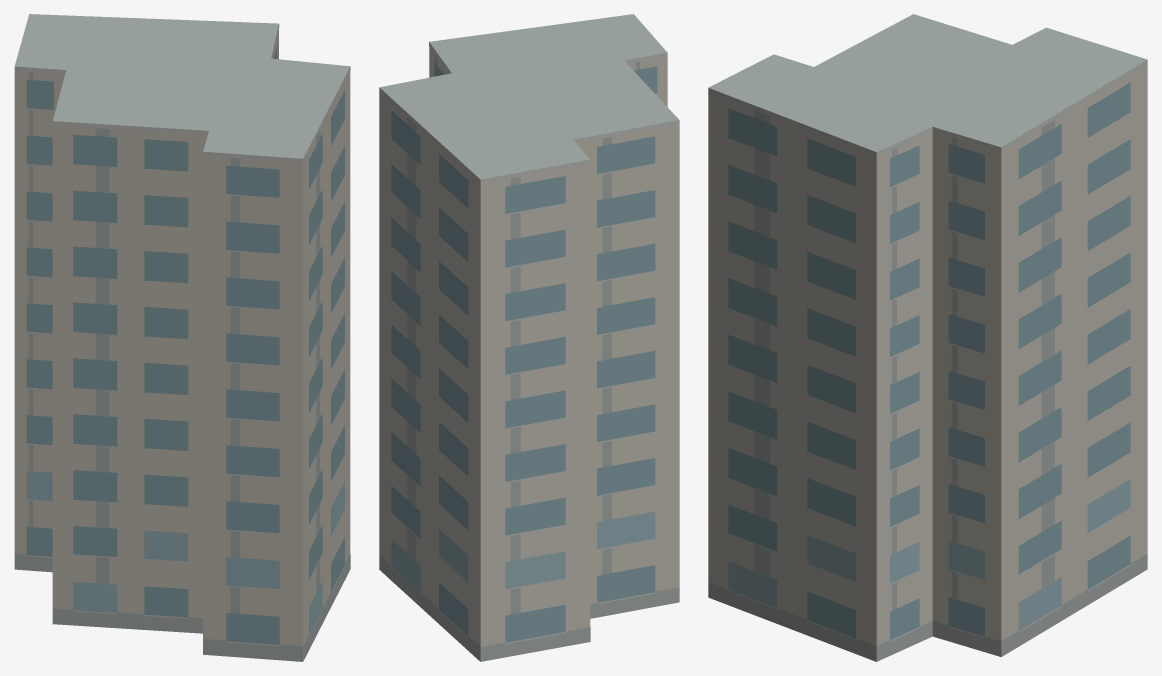
Rendered from survey-upis-33002314.glb.
3 views of the same model, side by side, from view 1: azimuth 30°, elevation 25°; view 2: azimuth 150°, elevation 25°; view 3: azimuth 270°, elevation 25° (orthographic). The views are drawn at different scales.
Visible parts, largest first — view 1: survey-upis-33002314.tmp; view 2: survey-upis-33002314.tmp; view 3: survey-upis-33002314.tmp.
Boxes of the visible parts, <box> form: survey-upis-33002314.tmp: <box>14,14,350,661</box>; survey-upis-33002314.tmp: <box>379,14,679,661</box>; survey-upis-33002314.tmp: <box>708,14,1147,661</box>.
Size of the model in its own units: 15.96 by 27.45 by 21.46.
